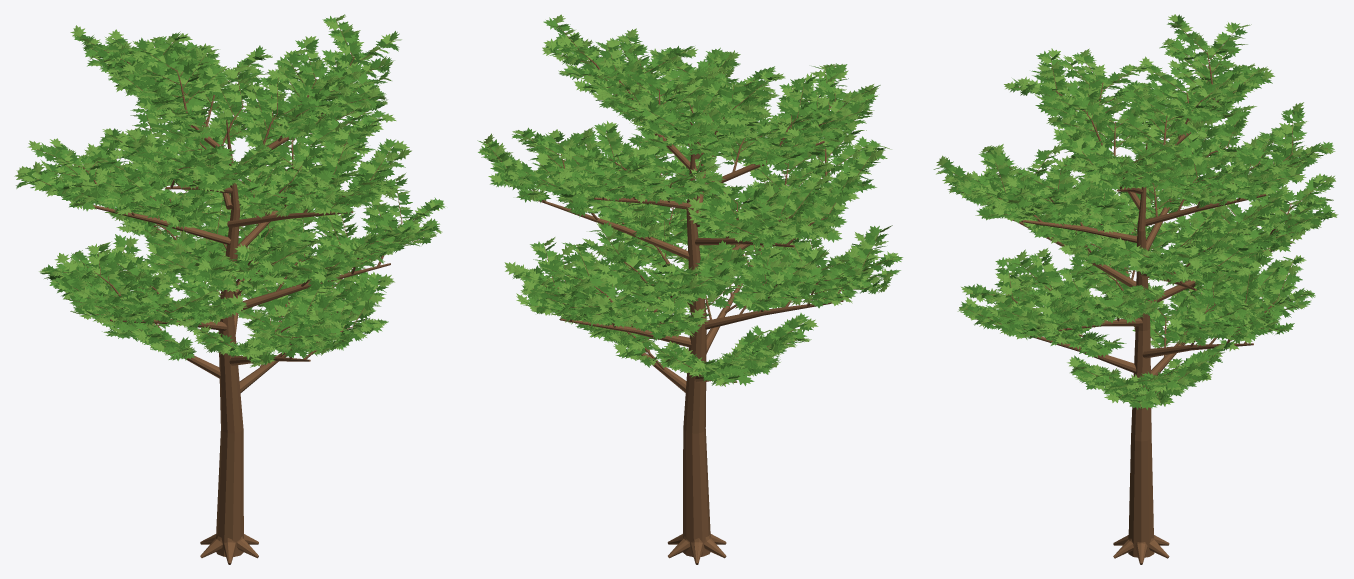
File: mature_maple_hq_lod0.glb
3 renders of one model, left to right at view 1: azimuth 30°, elevation 25°; view 2: azimuth 150°, elevation 25°; view 3: azimuth 270°, elevation 25°, orthographic. The views are drawn at different scales.
Parts seen in each view (by area): view 1: Original_CC0_PBR_Mat_1, Original_CC0_PBR_Mat_2, Original_CC0_PBR_Mat_3, Original_CC0_PBR_Mat_0; view 2: Original_CC0_PBR_Mat_1, Original_CC0_PBR_Mat_2, Original_CC0_PBR_Mat_3, Original_CC0_PBR_Mat_0; view 3: Original_CC0_PBR_Mat_1, Original_CC0_PBR_Mat_2, Original_CC0_PBR_Mat_3, Original_CC0_PBR_Mat_0.
Part boxes in pixels (x1,y1,x2,y2): Original_CC0_PBR_Mat_1: (14,14,445,367); Original_CC0_PBR_Mat_2: (16,16,444,365); Original_CC0_PBR_Mat_3: (21,22,441,365); Original_CC0_PBR_Mat_0: (24,21,439,564); Original_CC0_PBR_Mat_1: (479,14,899,386); Original_CC0_PBR_Mat_2: (477,17,902,385); Original_CC0_PBR_Mat_3: (480,24,896,381); Original_CC0_PBR_Mat_0: (486,25,893,564); Original_CC0_PBR_Mat_1: (936,14,1338,407); Original_CC0_PBR_Mat_2: (933,19,1334,409); Original_CC0_PBR_Mat_3: (940,14,1333,409); Original_CC0_PBR_Mat_0: (942,20,1327,564).
Size of the model in its own units: 7.11 by 9.51 by 7.14.
